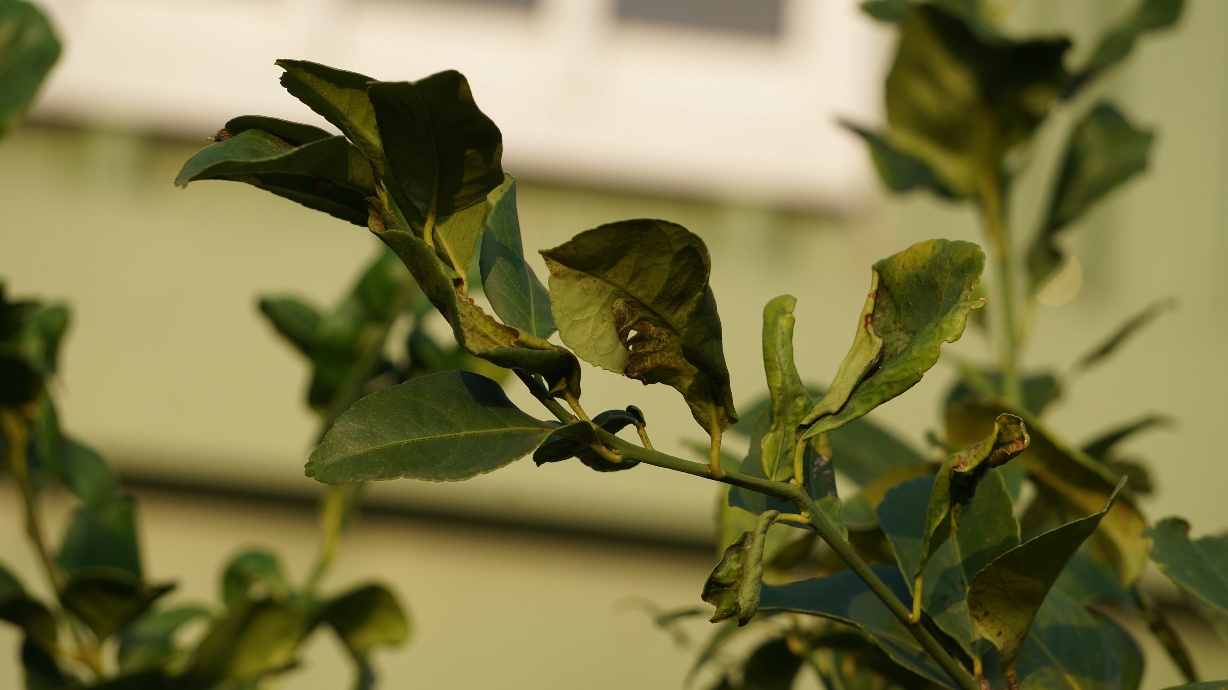curly: (907, 411, 1035, 583), (750, 291, 827, 484), (699, 505, 777, 632)
damage: (786, 239, 998, 487), (528, 212, 741, 439)
